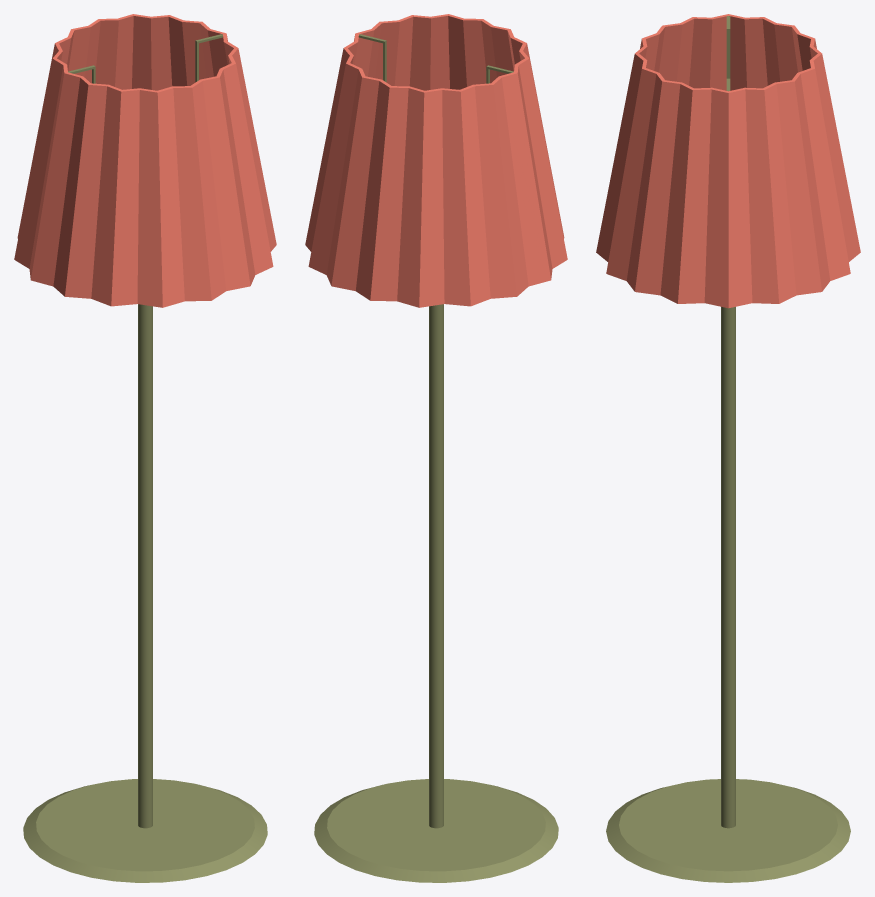
The model's file is Lamp.fbx.
The picture shows the model from 3 angles, left to right: view 1: azimuth 30°, elevation 25°; view 2: azimuth 150°, elevation 25°; view 3: azimuth 270°, elevation 25°; orthographic projection.
Visible parts, largest first — view 1: Bod; view 2: Bod; view 3: Bod.
Part boxes in pixels (box(x1,y1,x2,y2)): Bod: box(14, 14, 276, 882); Bod: box(305, 14, 567, 882); Bod: box(596, 14, 860, 882).
Size of the model in its own units: 216 by 701 by 216.
